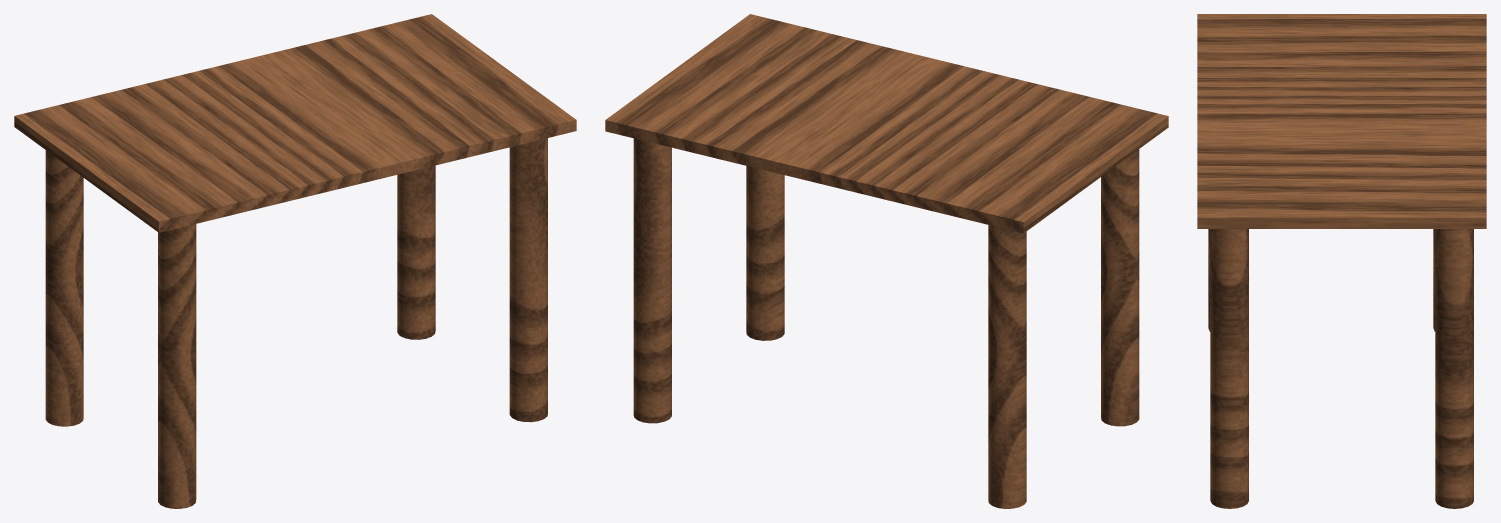
Rendered from TableV2.fbx.
The picture shows the model from 3 angles, left to right: view 1: azimuth 30°, elevation 25°; view 2: azimuth 150°, elevation 25°; view 3: azimuth 270°, elevation 25°; orthographic projection.
Visible parts, largest first — view 1: Cylindre; view 2: Cylindre; view 3: Cylindre.
Boxes of the visible parts, bbox=[...] form: Cylindre: bbox=[14, 14, 576, 508]; Cylindre: bbox=[605, 14, 1168, 508]; Cylindre: bbox=[1197, 14, 1486, 508].
Bounding box in the file's own units: 150 × 102 × 90.
1 material, 1 textured.
